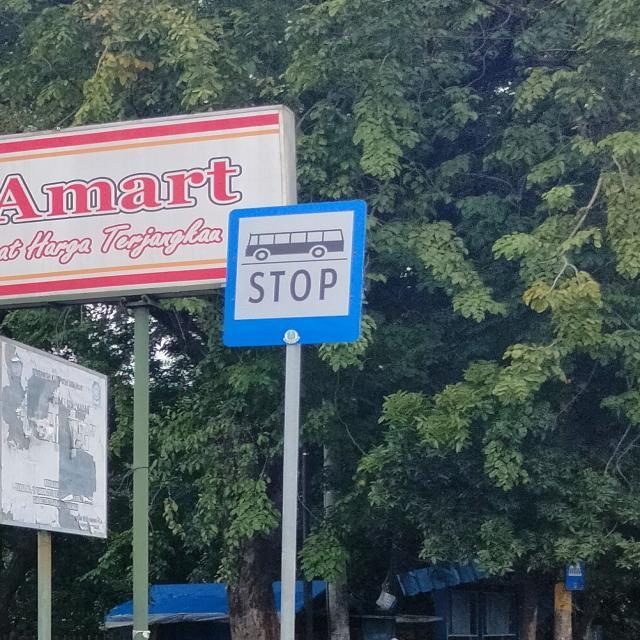Pemberhentian Bus: (222, 198, 364, 346)
